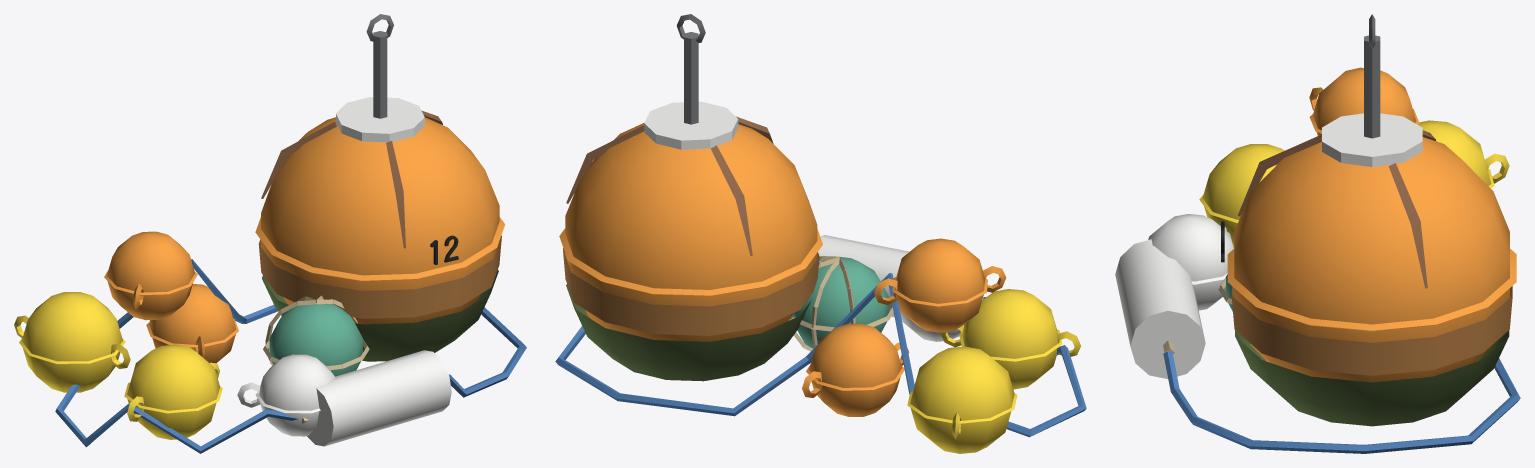
The model's file is floats.glb.
3 views of the same model, side by side, from view 1: azimuth 30°, elevation 25°; view 2: azimuth 150°, elevation 25°; view 3: azimuth 270°, elevation 25° (orthographic). The views are drawn at different scales.
Parts seen in each view (by area): view 1: floats_body; view 2: floats_body; view 3: floats_body.
Part boxes in pixels (<box>): floats_body: <box>14,14,526,453</box>; floats_body: <box>555,14,1086,453</box>; floats_body: <box>1115,14,1520,453</box>.
Size of what is drawn, in the model's own units: 1.6 by 1.13 by 1.07.
